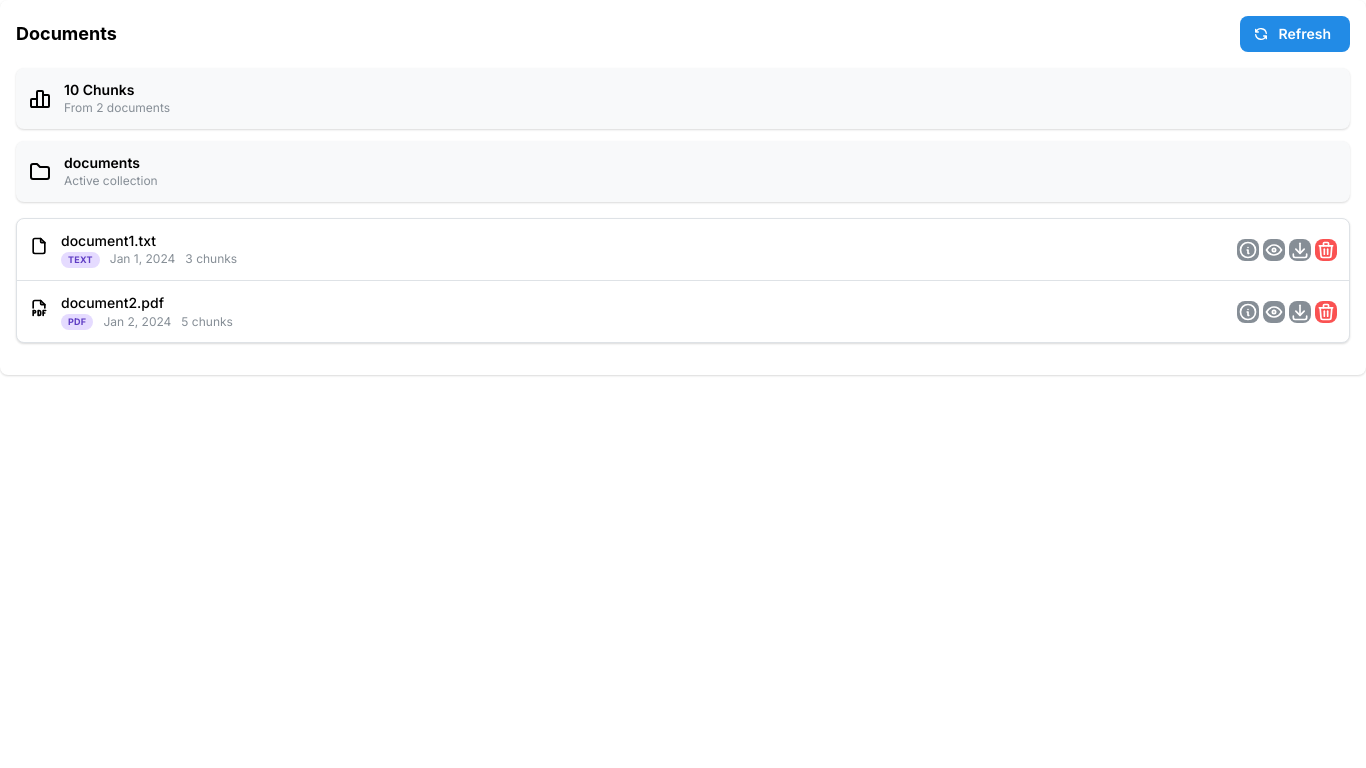
Test: DocumentList › should show delete confirmation modal
The width and height of the screenshot is (1366, 768).
Check: the text "document1.txt" is shown, box [61,232,156,249]
Click the button named "Delete document1.txt" at (1326, 250), box [1315,239,1337,261]
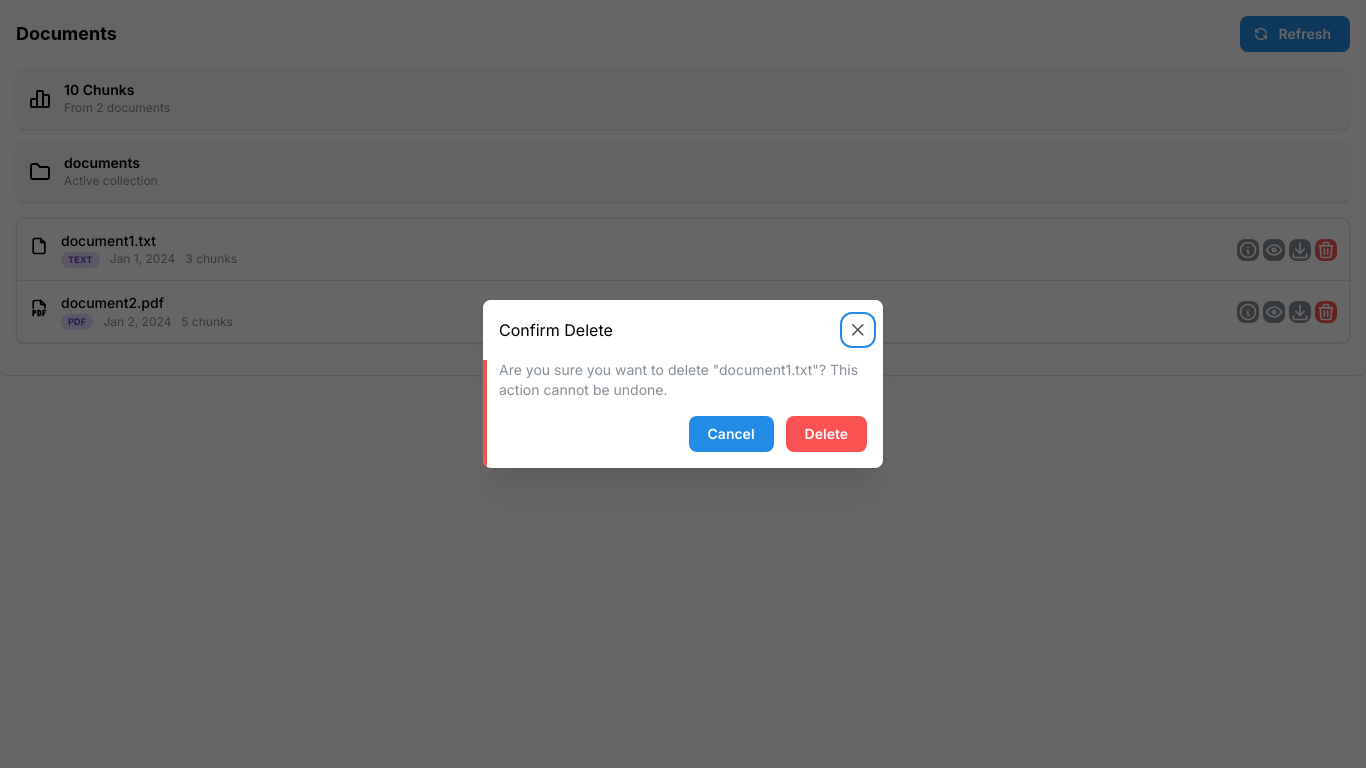
Check: the heading "Confirm Delete" is shown, box [499,322,613,338]
